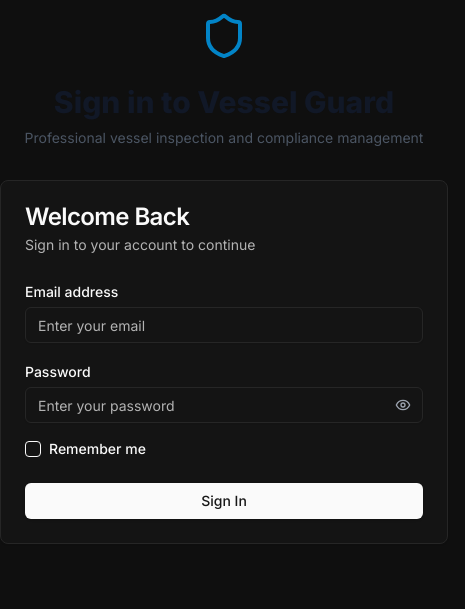
Test case: LoginForm - Complete Testing › Form Interaction › should clear validation errors when user starts typing
This screenshot has width=465, height=609.
// Submit empty form to trigger validation errors
Submit the form, box [25,279,423,519]
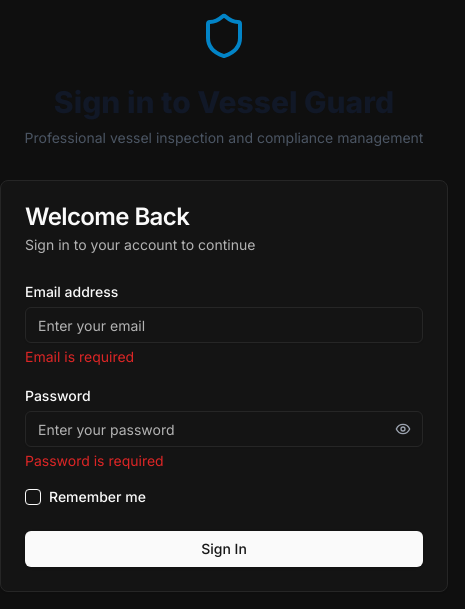
Now the text "Email is required" is shown, box [25,348,134,365]
// Start typing in email field
In the field labelled "Email address": (224, 325) [25,307,423,343], type "t"
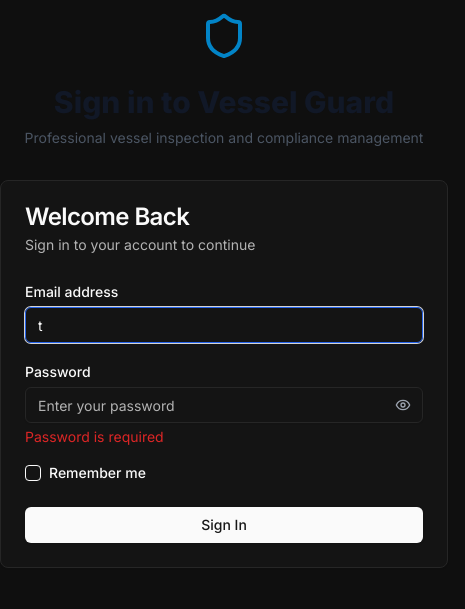
Now the text "Email is required" is gone
